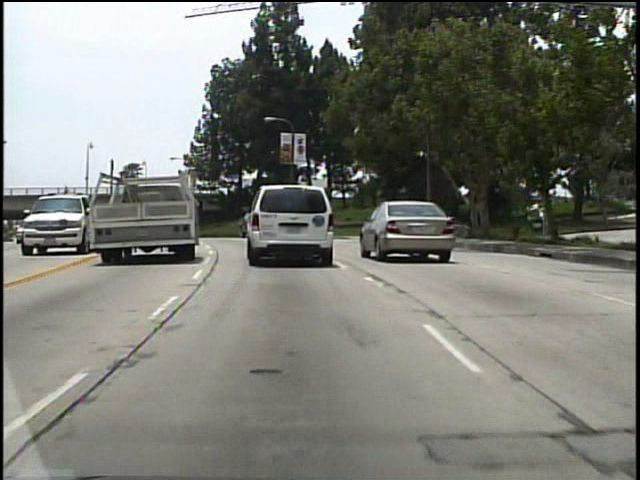person: (61, 182, 72, 202)
